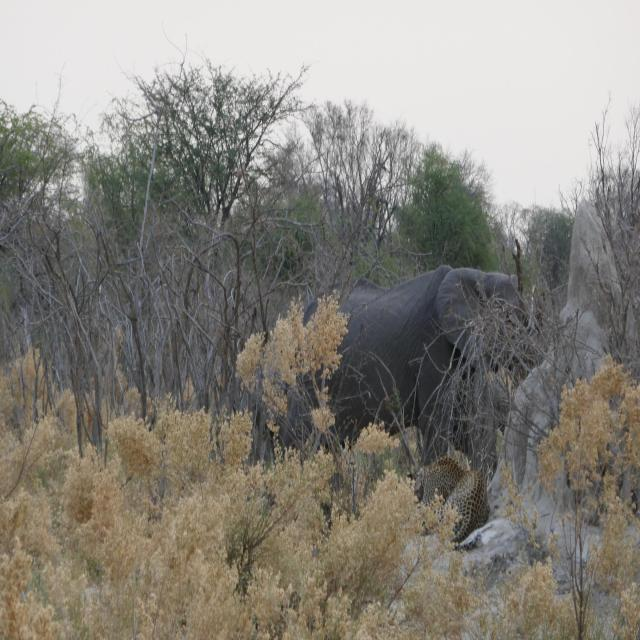Leopard: (407, 450, 493, 550)
